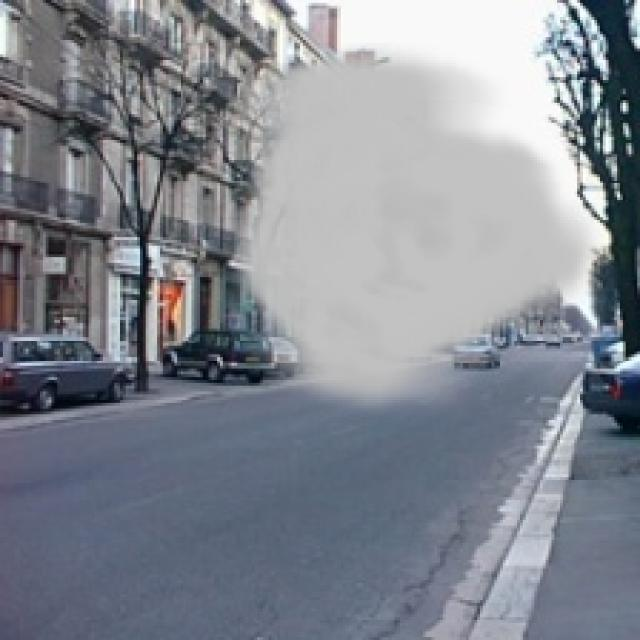smoke: (226, 43, 603, 420)
